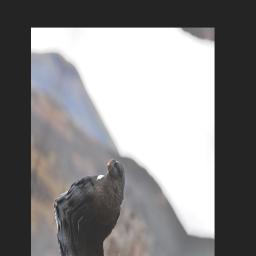Crow: (53, 123, 133, 248)
